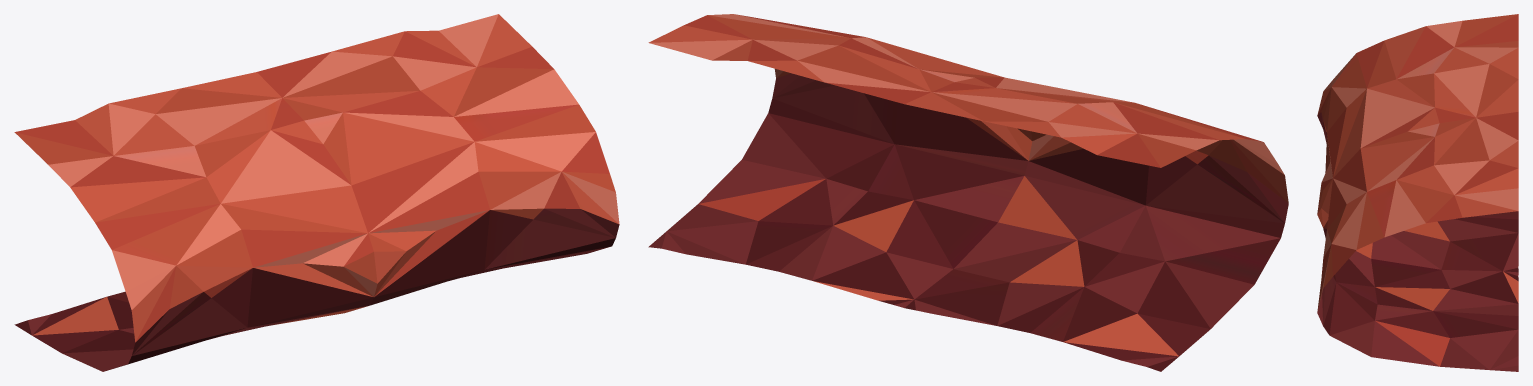
3 renders of one model, left to right at view 1: azimuth 30°, elevation 25°; view 2: azimuth 150°, elevation 25°; view 3: azimuth 270°, elevation 25°, orthographic. The views are drawn at different scales.
Visible parts, largest first — view 1: polySurface16; view 2: polySurface16; view 3: polySurface16.
Boxes of the visible parts, bbox=[...] form: polySurface16: bbox=[14, 14, 619, 371]; polySurface16: bbox=[648, 14, 1288, 371]; polySurface16: bbox=[1317, 14, 1518, 371].
Size of the model in its own units: 801 by 314 by 346.
